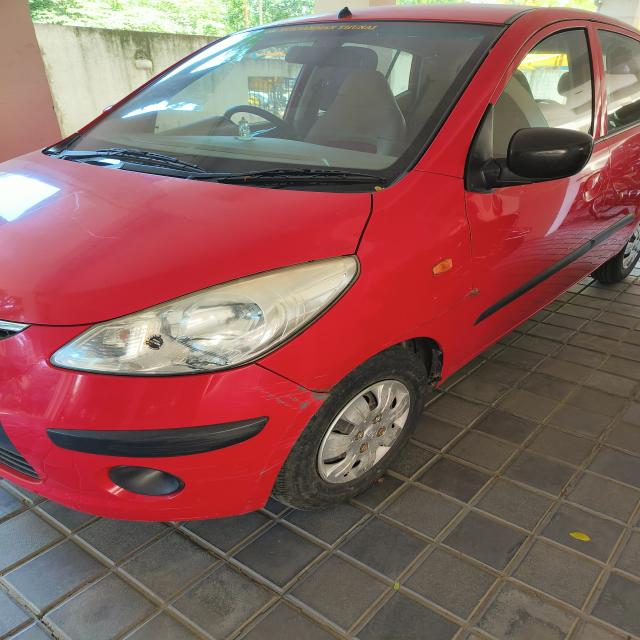scratch: (377, 272, 491, 350), (7, 184, 132, 252), (210, 427, 304, 472), (245, 368, 338, 413), (149, 491, 263, 520), (307, 231, 389, 253)
